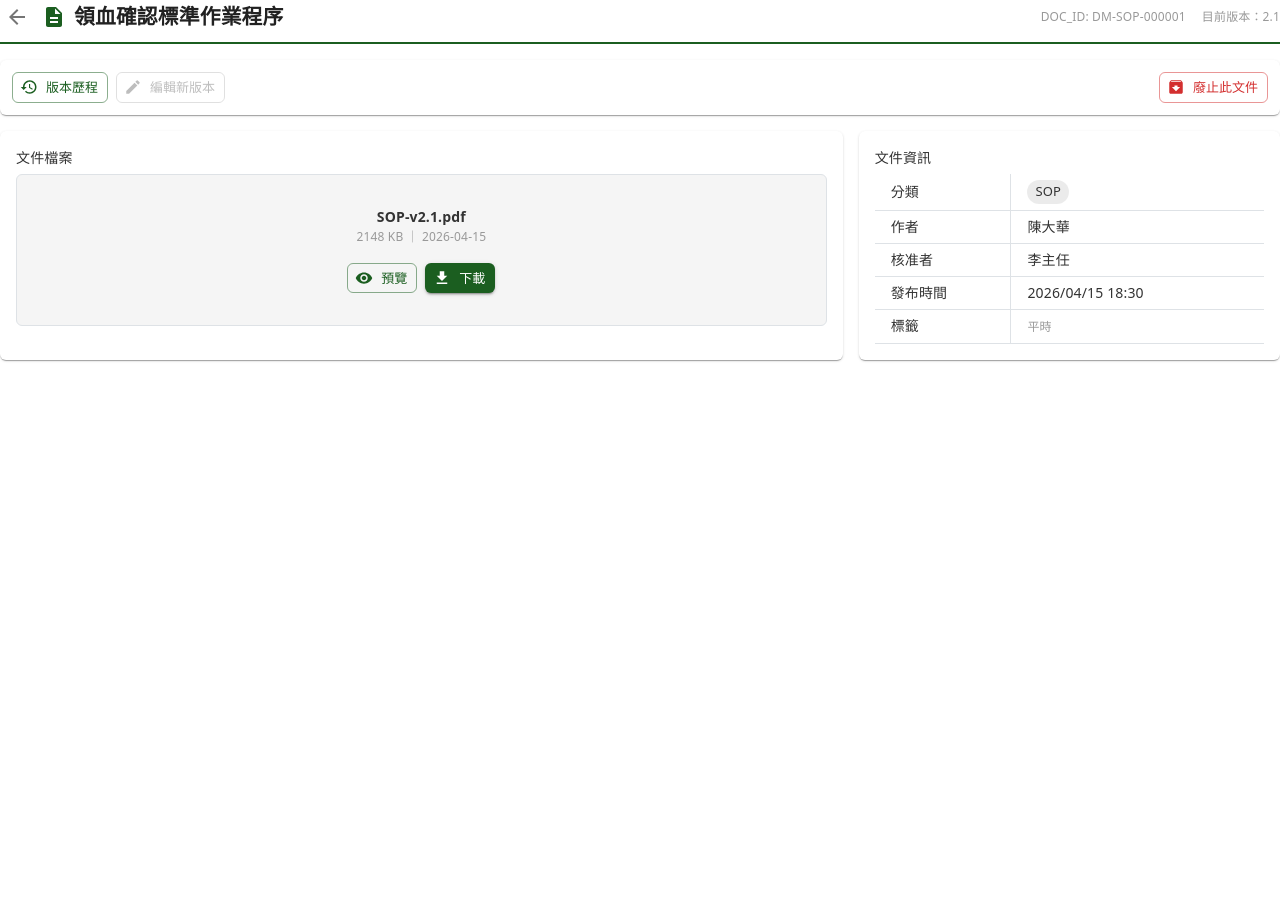
DmDetailPage 動作入口與版本說明（#600） › 本人已有未送簽草稿：只鎖「編輯新版本」，「廢止此文件」仍可用
Expected: the heading "領血確認標準作業程序" is shown, [74,1,284,33]
Expected: the button "編輯新版本" is disabled, [116,72,225,103]
Click the button "廢止此文件" at point(1214, 87), box [1159,72,1268,103]
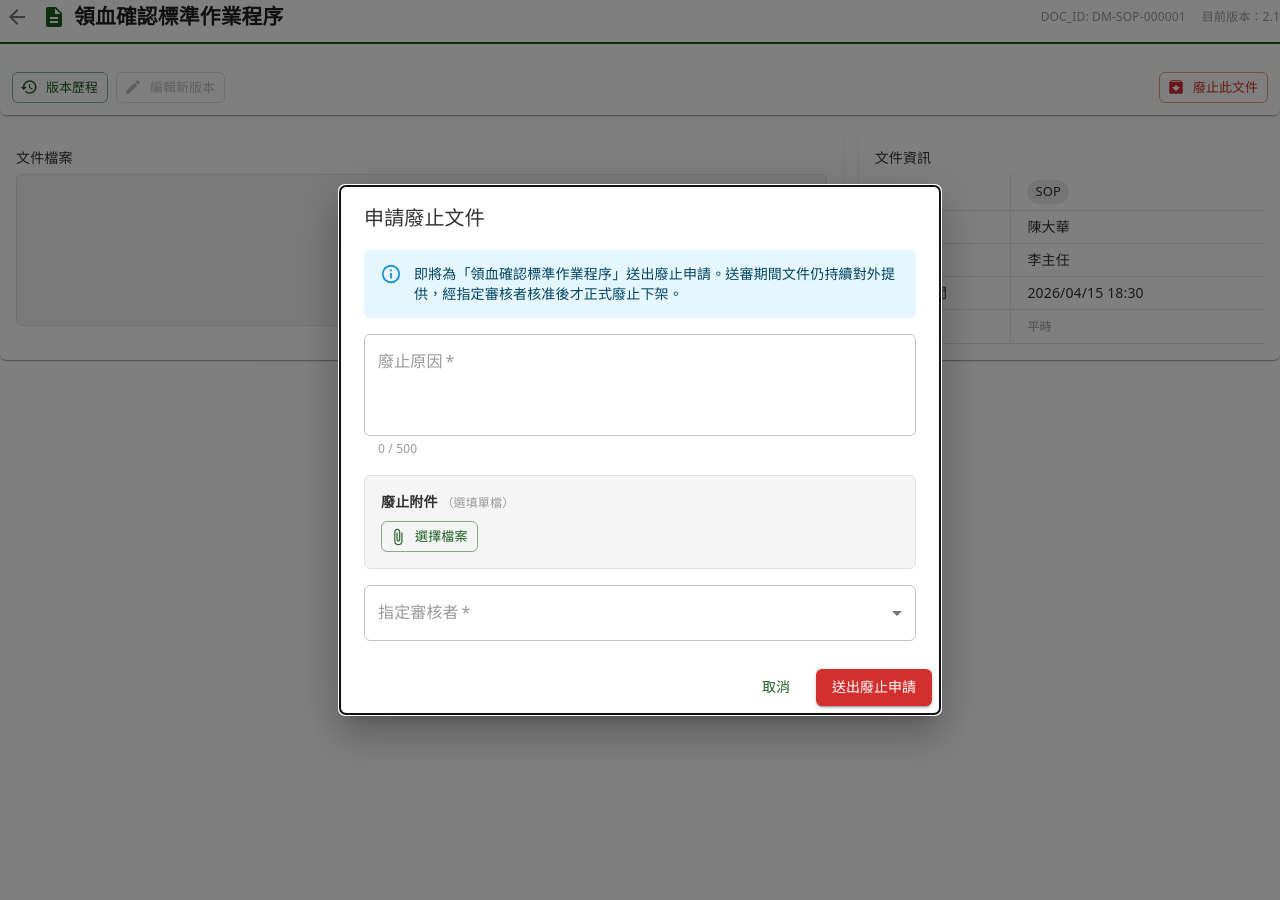
Expected: the heading "申請廢止文件" is shown, [364,204,485,232]
